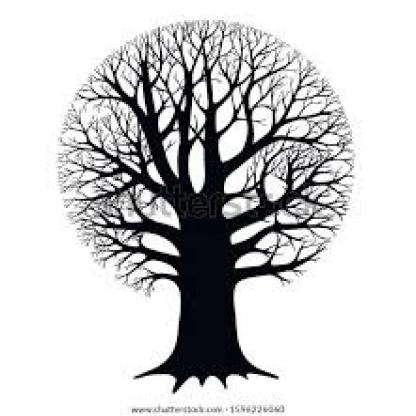bird: (124, 360, 291, 393)
branch_sharp: (52, 21, 355, 295)
root_only: (128, 362, 283, 389)
trunk_straight: (169, 295, 246, 350)
